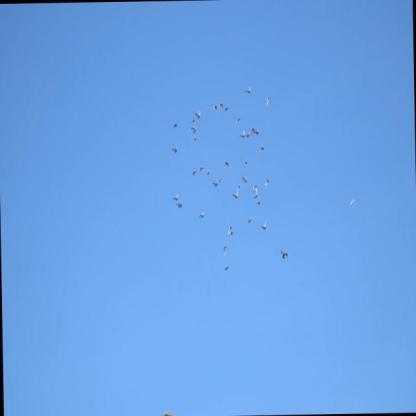bird: (232, 183, 242, 200), (251, 122, 259, 138), (211, 177, 222, 188), (245, 83, 253, 97), (259, 219, 267, 231), (280, 248, 288, 260), (240, 127, 247, 140), (172, 193, 180, 203), (252, 189, 259, 200), (265, 95, 271, 107), (190, 125, 198, 134), (171, 145, 179, 154), (242, 173, 248, 185), (194, 110, 201, 120), (348, 197, 355, 207), (222, 245, 228, 256), (256, 197, 261, 210), (176, 201, 183, 210), (218, 100, 224, 110), (198, 211, 205, 219), (265, 178, 270, 189), (253, 181, 258, 192), (224, 160, 230, 169), (191, 169, 198, 176), (191, 115, 196, 124), (192, 135, 197, 144), (247, 216, 252, 225), (228, 224, 232, 235), (198, 165, 205, 171), (246, 131, 251, 139), (260, 145, 265, 153), (237, 116, 241, 125), (224, 106, 229, 113), (173, 122, 178, 129), (213, 104, 217, 112), (243, 159, 248, 165), (229, 230, 233, 237), (224, 266, 229, 271), (207, 168, 210, 175)
